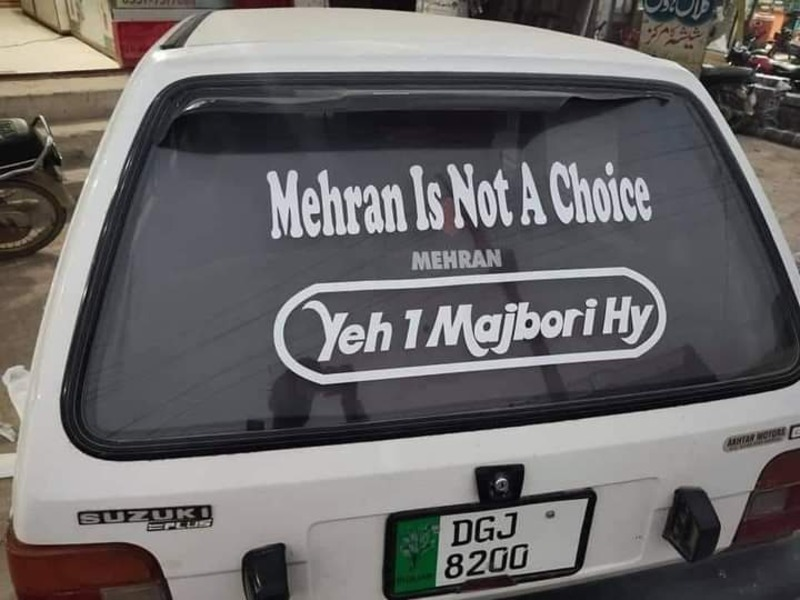License Plate: (382, 491, 593, 597)
